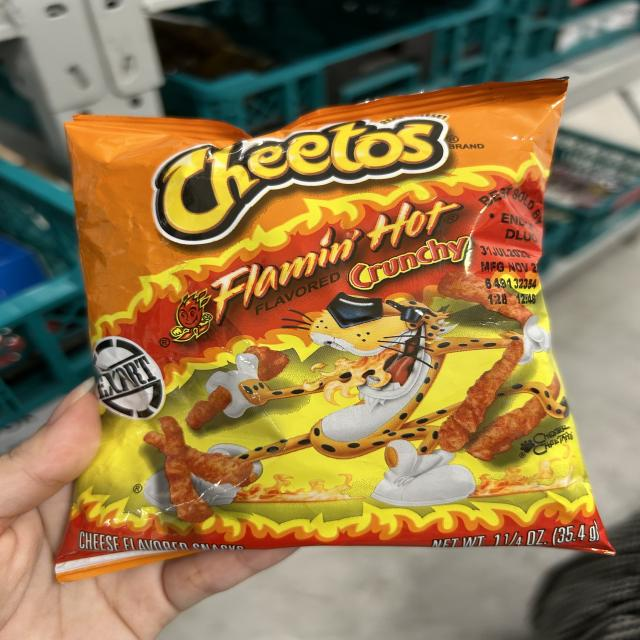object_name: (85, 123, 569, 539)
